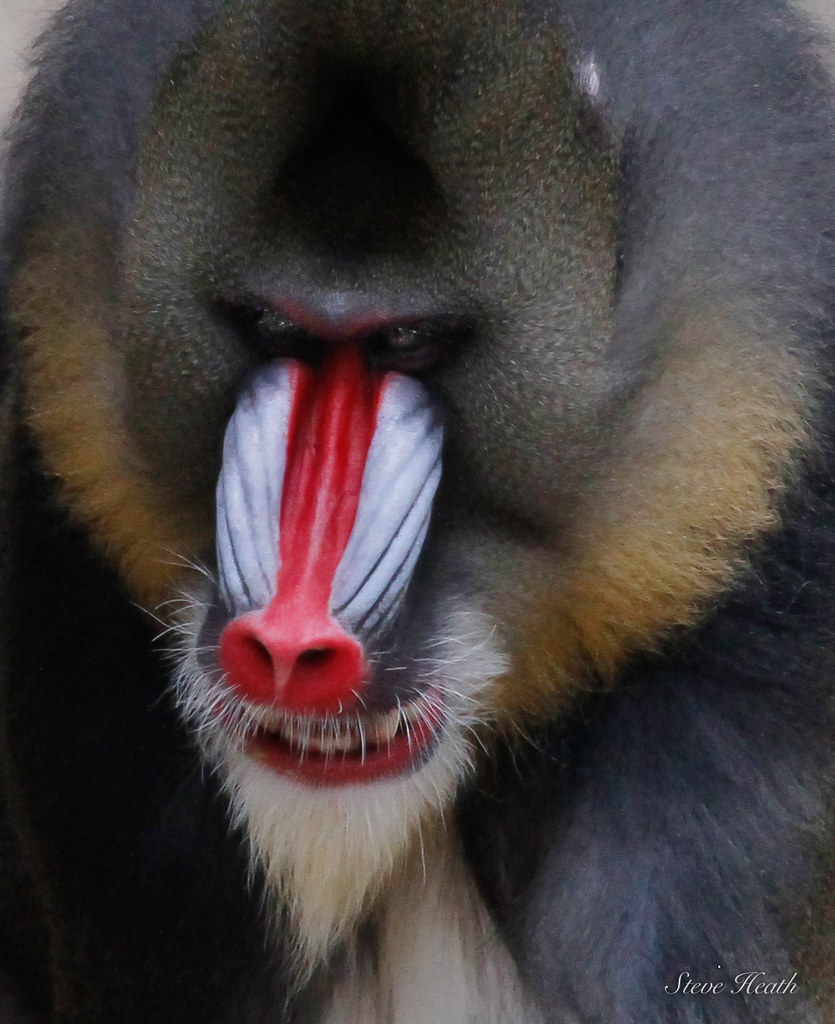Mandrill: (33, 6, 793, 921)
